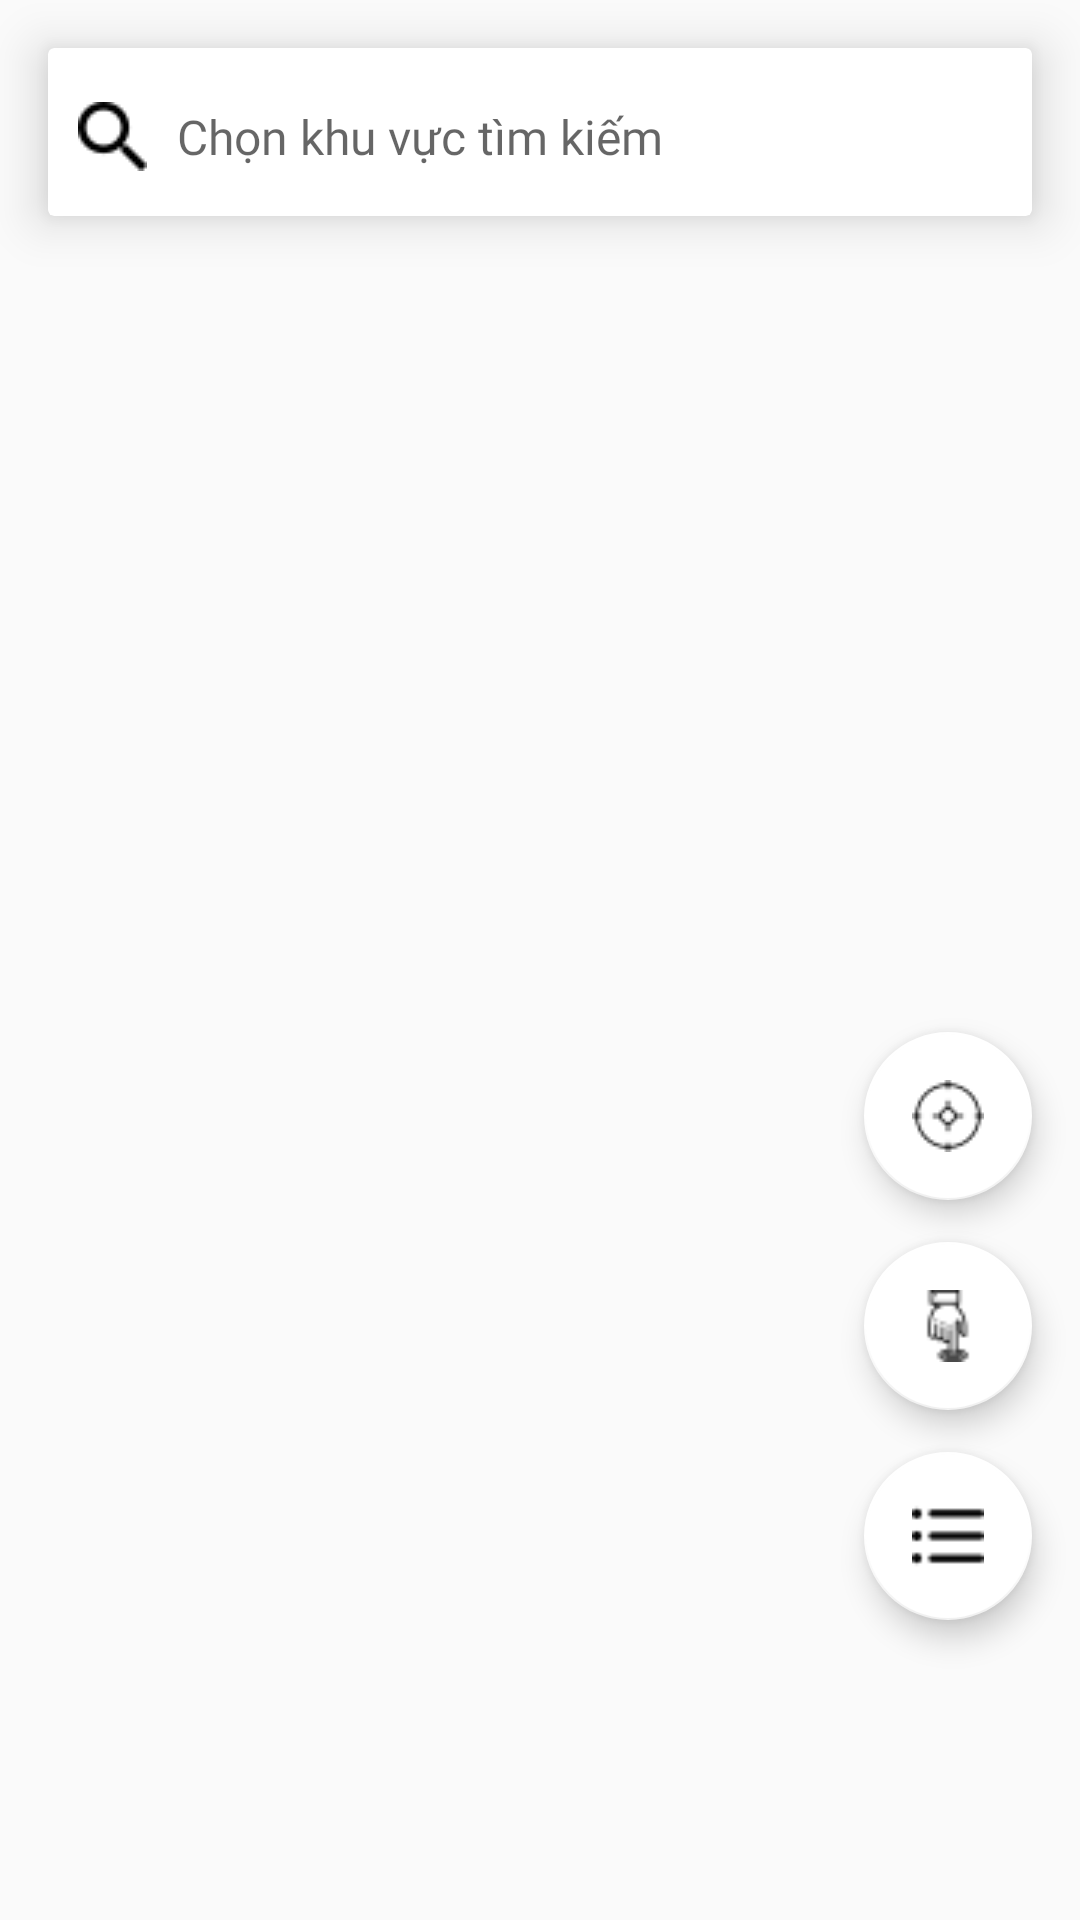

Where to tap for icons on this 1080px x 1920px app screen, as [x,y]:
list: [927,1539]
target: [951,1117]
